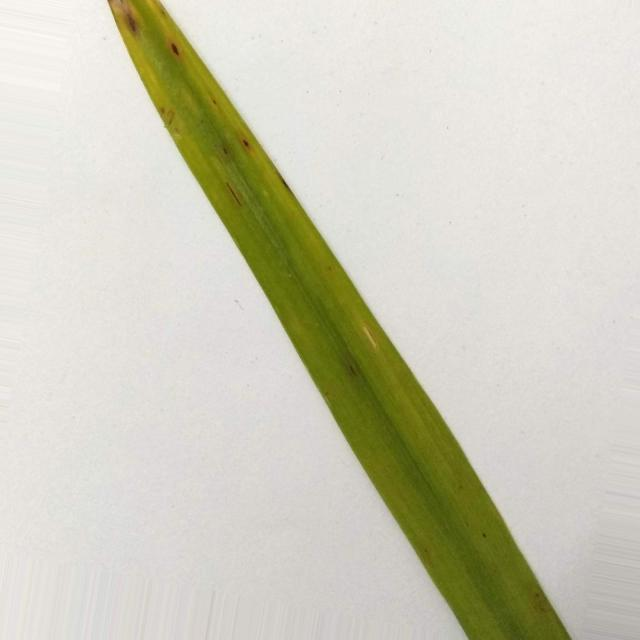Brown_Spot: (120, 6, 139, 35), (226, 181, 241, 205), (532, 585, 550, 605), (279, 175, 290, 190), (349, 364, 358, 376), (171, 42, 179, 55), (220, 146, 230, 156), (243, 139, 249, 148), (481, 532, 488, 539), (528, 591, 530, 598)
